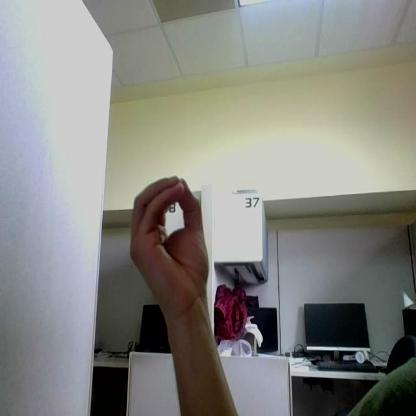O: (130, 175, 209, 302)
